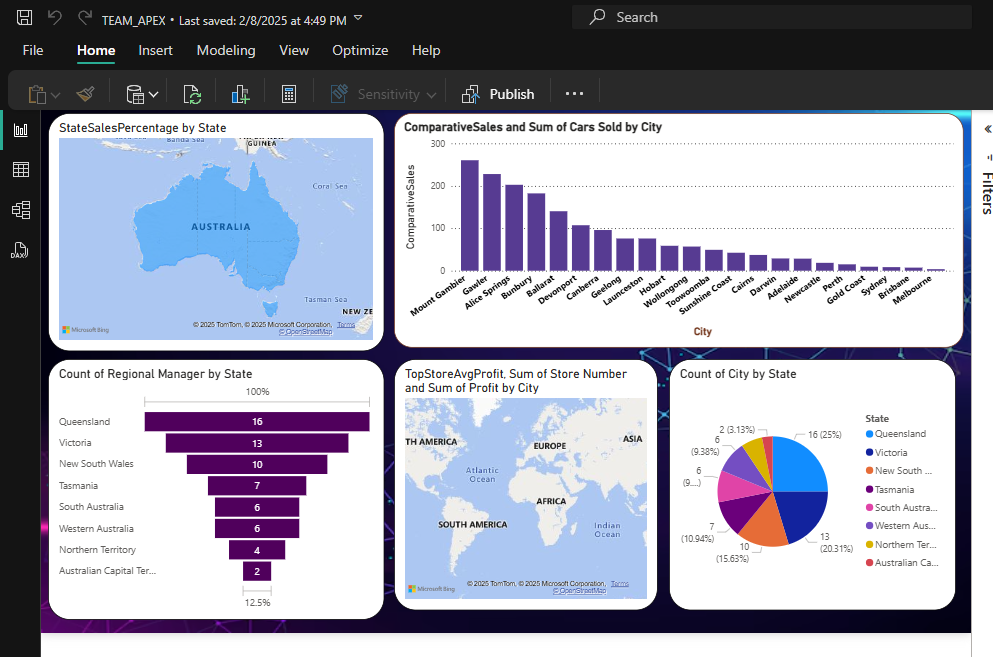

What the dashboard file says about the page in this screenshot:
{"tool":"powerbi","page":{"name":"Page 3","canvas":[1280,720],"ordinal":2},"visuals":[{"type":"filledMap","fields":{"Category":["Budget Electric Cars.State"]},"box":[9.4,4,462.5,328.4],"z":0},{"type":"funnel","fields":{"Y":["CountNonNull(Budget Electric Cars.Regional Manager)"],"Category":["Budget Electric Cars.State"]},"box":[9.4,343.2,462.5,359.3],"z":1},{"type":"filledMap","fields":{"Category":["Budget Electric Cars.City"],"Y":["Budget Electric Cars.TopStoreAvgProfit"]},"box":[485.3,343.2,363.3,345.9],"z":2},{"type":"pieChart","fields":{"Y":["CountNonNull(Budget Electric Cars.City)"],"Category":["Budget Electric Cars.State"]},"box":[864.7,343.2,395.5,345.9],"z":3},{"type":"columnChart","fields":{"Category":["Budget Electric Cars.City"],"Y":["Budget Electric Cars.ComparativeSales"]},"box":[485.3,4,784.3,323.1],"z":4}]}

Visuals, with their boxes in screenshot pixels (x1, y1, x2, y2):
filledMap - Budget Electric Cars.State: x1=43 y1=109 x2=384 y2=351
funnel - CountNonNull(Budget Electric Cars.Regional Manager) x Budget Electric Cars.State: x1=43 y1=359 x2=384 y2=624
filledMap - Budget Electric Cars.City x Budget Electric Cars.TopStoreAvgProfit: x1=394 y1=359 x2=662 y2=615
pieChart - CountNonNull(Budget Electric Cars.City) x Budget Electric Cars.State: x1=674 y1=359 x2=966 y2=615
columnChart - Budget Electric Cars.City x Budget Electric Cars.ComparativeSales: x1=394 y1=109 x2=973 y2=347
